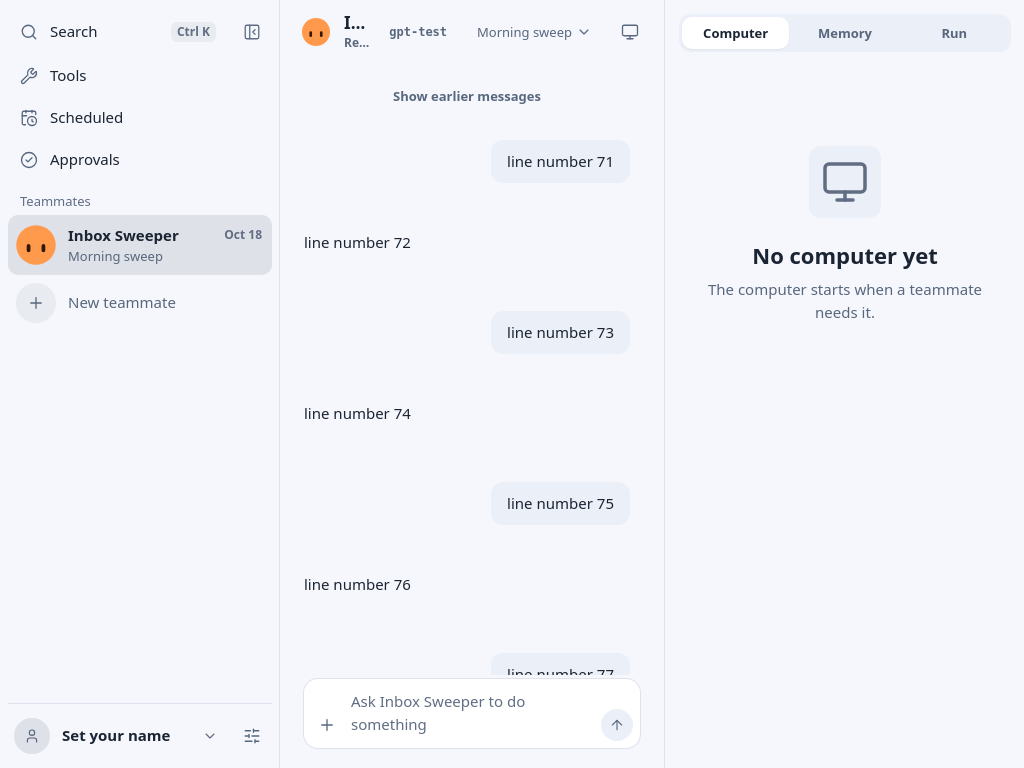
Test: chat edge cases › pages in earlier messages from the top of a long conversation
The width and height of the screenshot is (1024, 768).
Expected: the text "line number 71" is shown, [491,140,630,183]
Click the button "Show earlier messages" at (467, 96), box [379,80,555,112]
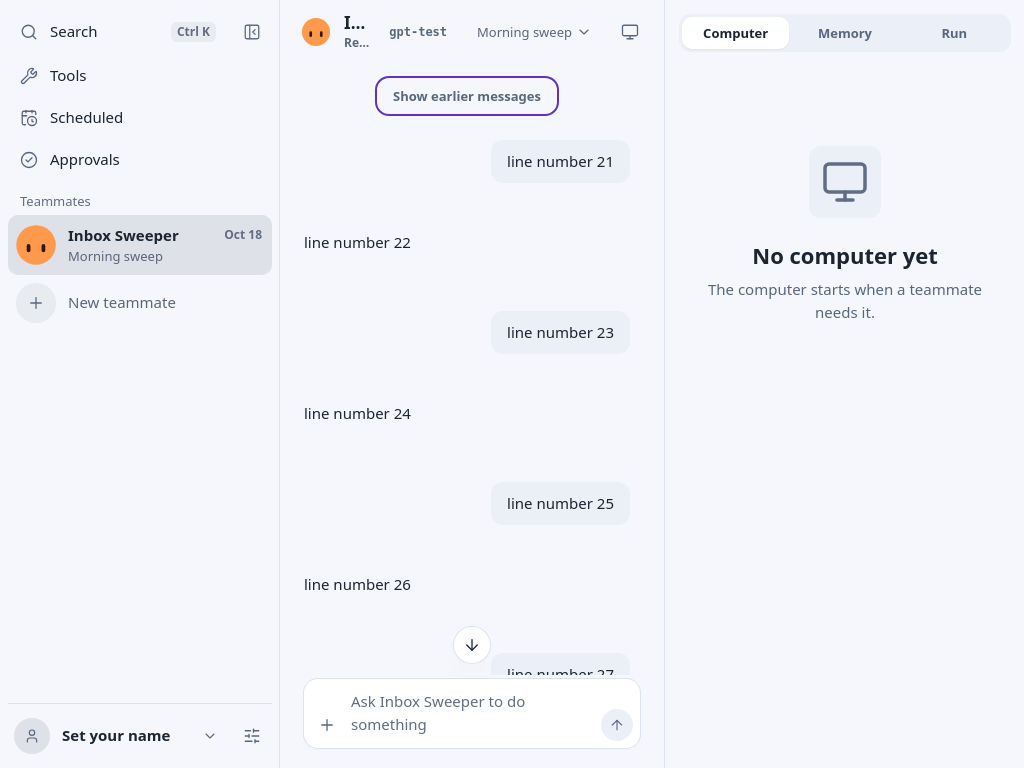
Result: the text "line number 21" is shown at [491,140,630,183]
Click the button "Show earlier messages" at (467, 96), box [379,80,555,112]
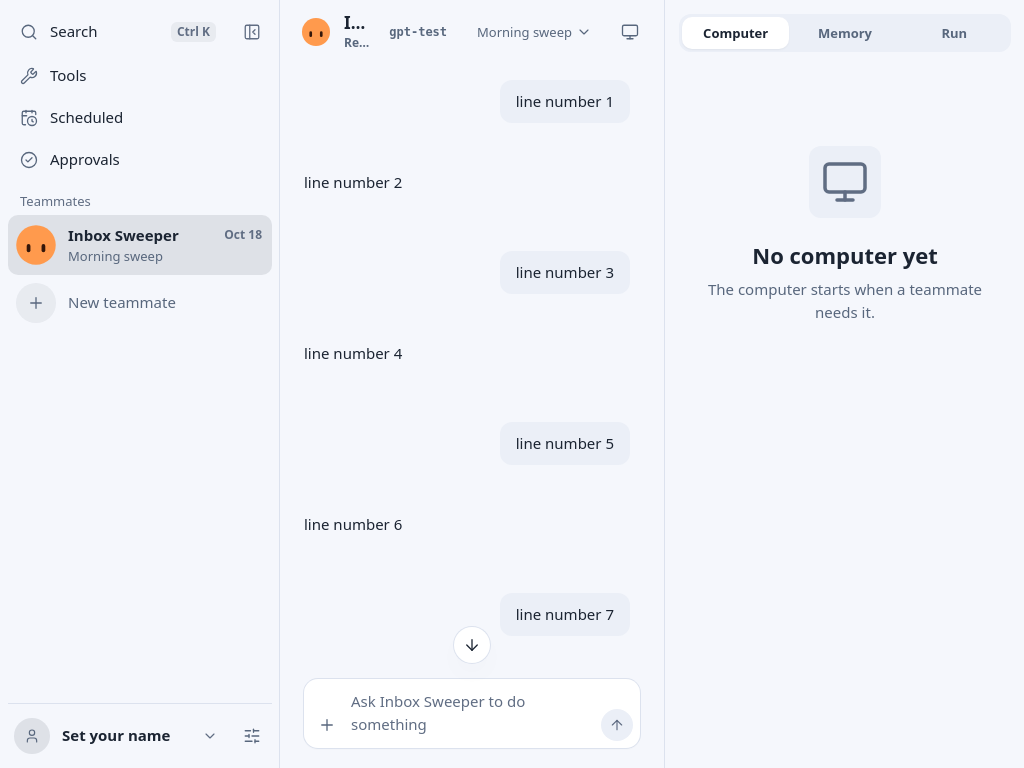
Result: the text "line number 1" is shown at [500,80,630,123]
Result: the button "Show earlier messages" is gone
